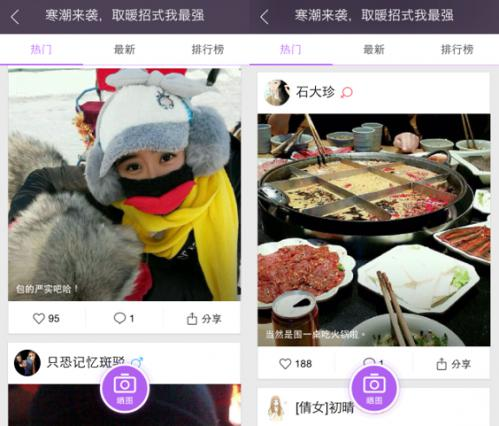face_mask: (113, 132, 191, 206)
